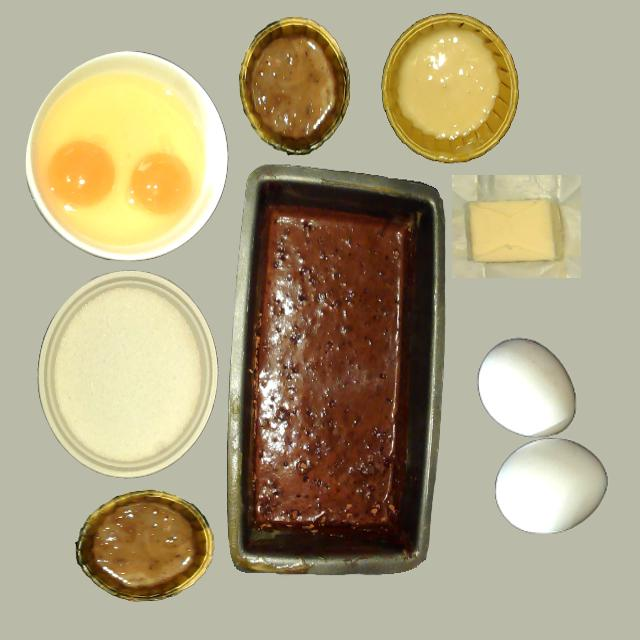Egg: (47, 140, 116, 210), (129, 152, 191, 216)
Sugar: (52, 284, 202, 468)
